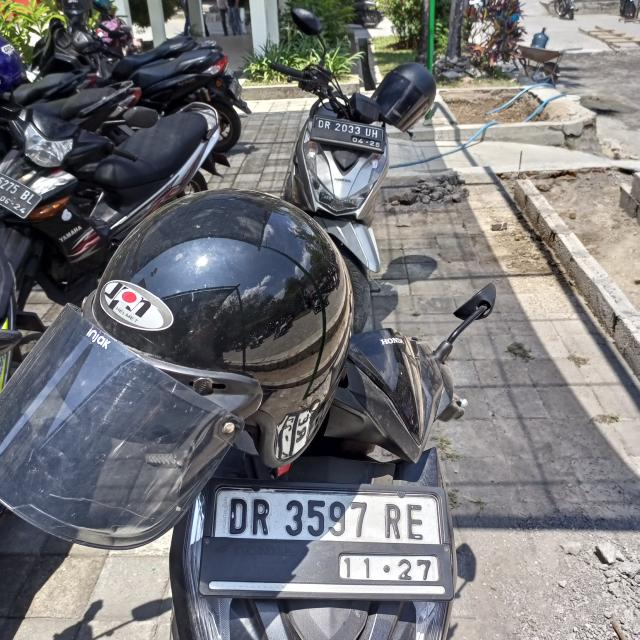plate: (211, 484, 446, 592), (308, 114, 388, 155)
